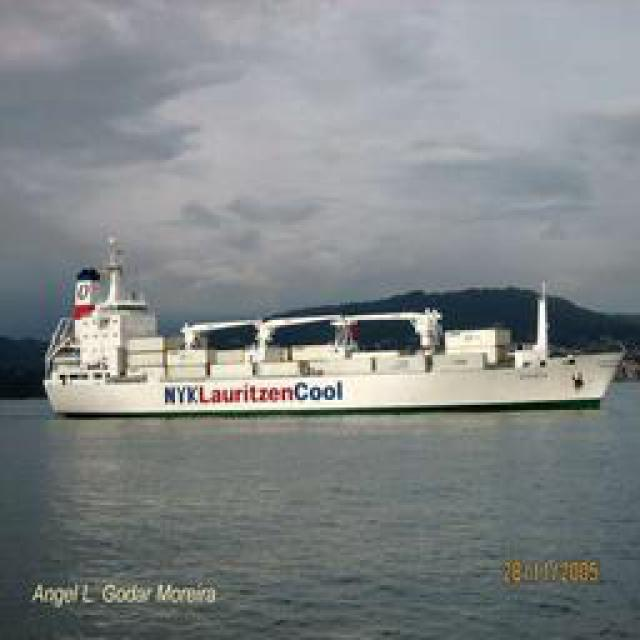Ship: (26, 276, 626, 421)
